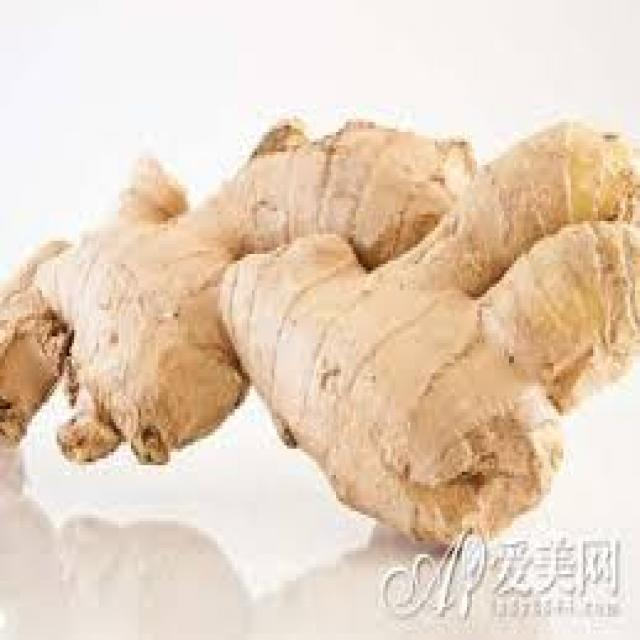organic waste: (212, 112, 638, 541), (0, 115, 474, 458)
